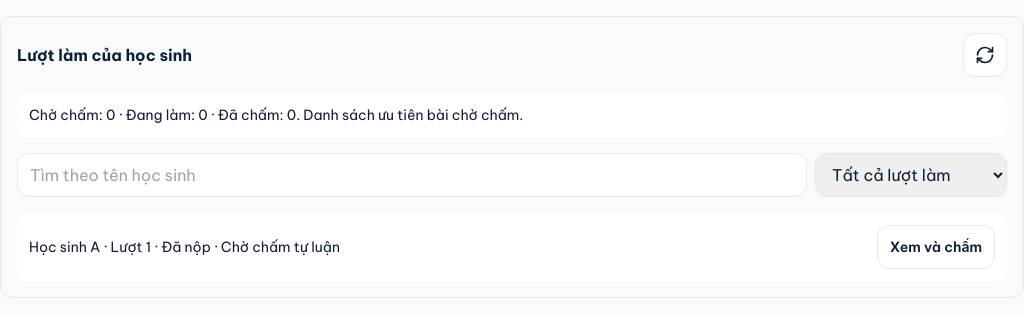
Test: teacher attempt review › uses one accessible refresh action, blocks repeated requests and reports failure
Later steps or results of the test are not shown.
Click the button named "Tải lại danh sách lượt làm" at coordinates (985, 55), box [963,33,1007,77]
Click the button named "Tải lại danh sách lượt làm" at coordinates (985, 55), box [963,33,1007,77]
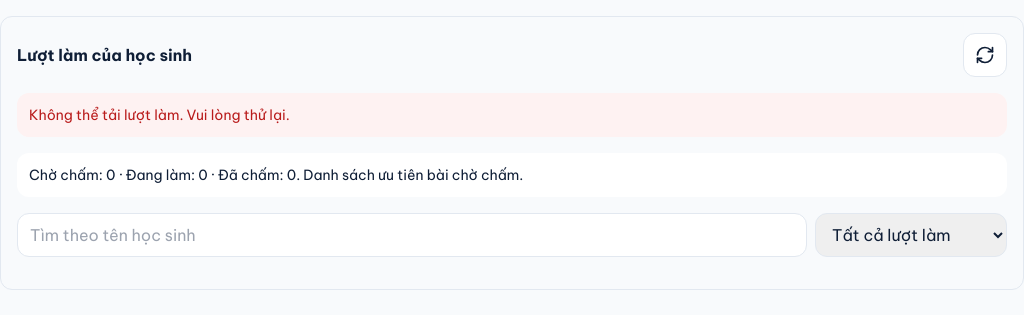
Now the message "Không thể tải lượt làm. Vui lòng thử lại." is shown, box [17,93,1007,137]
